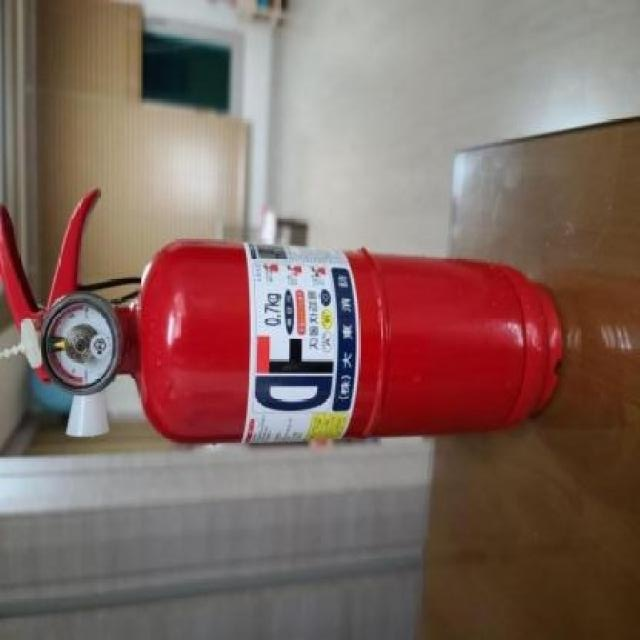fire extinguisher: (0, 189, 563, 446)
